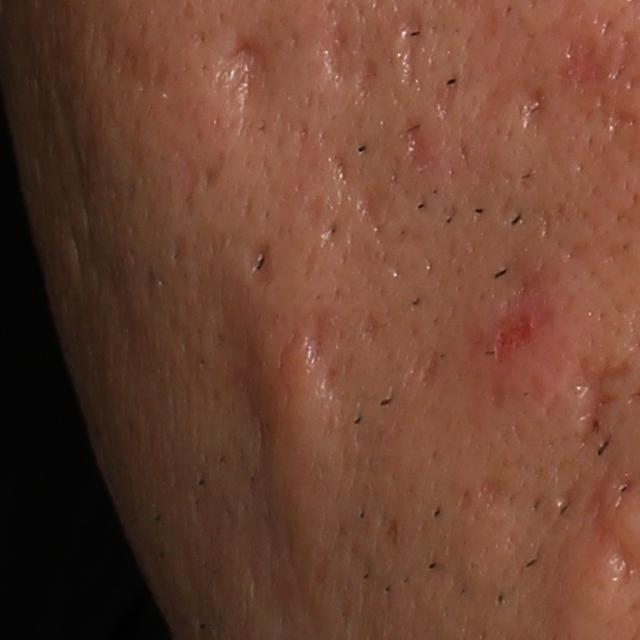atrophic_scar: (93, 8, 173, 102), (213, 31, 283, 118), (167, 147, 225, 214), (557, 32, 614, 95), (393, 8, 422, 97), (400, 118, 438, 173), (515, 82, 554, 125), (250, 242, 283, 285), (361, 182, 392, 227), (611, 543, 640, 584), (323, 148, 352, 182), (420, 352, 444, 391), (478, 473, 503, 503), (362, 316, 383, 339)
